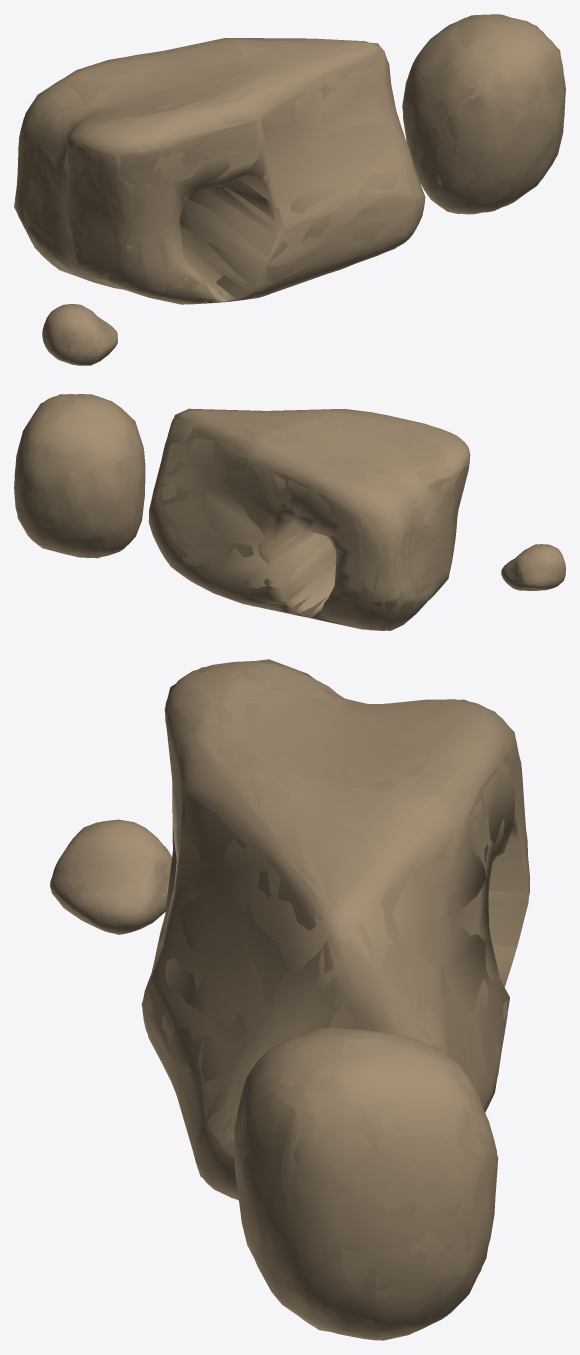
File: rock_formation_5.glb
3 views of the same model, one above another, from view 1: azimuth 30°, elevation 25°; view 2: azimuth 150°, elevation 25°; view 3: azimuth 270°, elevation 25° (orthographic). The views are drawn at different scales.
Visible parts, largest first — view 1: Rock_0, Rock_0_Far, Rock_1, Rock_1_Far, Rock_2, Rock_2_Far; view 2: Rock_0, Rock_0_Far, Rock_1, Rock_1_Far, Rock_2, Rock_2_Far; view 3: Rock_0, Rock_0_Far, Rock_1, Rock_1_Far, Rock_2, Rock_2_Far.
Part boxes in pixels (x1=…): Rock_0: x1=15, y1=38, x2=424, y2=304; Rock_0_Far: x1=14, y1=38, x2=425, y2=304; Rock_1: x1=403, y1=14, x2=565, y2=214; Rock_1_Far: x1=402, y1=15, x2=565, y2=213; Rock_2: x1=42, y1=304, x2=117, y2=365; Rock_2_Far: x1=42, y1=304, x2=117, y2=365; Rock_0: x1=149, y1=409, x2=470, y2=630; Rock_0_Far: x1=148, y1=408, x2=469, y2=630; Rock_1: x1=14, y1=394, x2=145, y2=557; Rock_1_Far: x1=14, y1=394, x2=145, y2=558; Rock_2: x1=501, y1=544, x2=565, y2=590; Rock_2_Far: x1=501, y1=544, x2=565, y2=590; Rock_0: x1=142, y1=661, x2=529, y2=1199; Rock_0_Far: x1=141, y1=659, x2=528, y2=1200; Rock_1: x1=234, y1=1028, x2=497, y2=1340; Rock_1_Far: x1=234, y1=1027, x2=498, y2=1340; Rock_2: x1=50, y1=820, x2=171, y2=934; Rock_2_Far: x1=50, y1=819, x2=171, y2=934.
Bounding box in the file's own units: 16.94 × 6.01 × 7.4.
